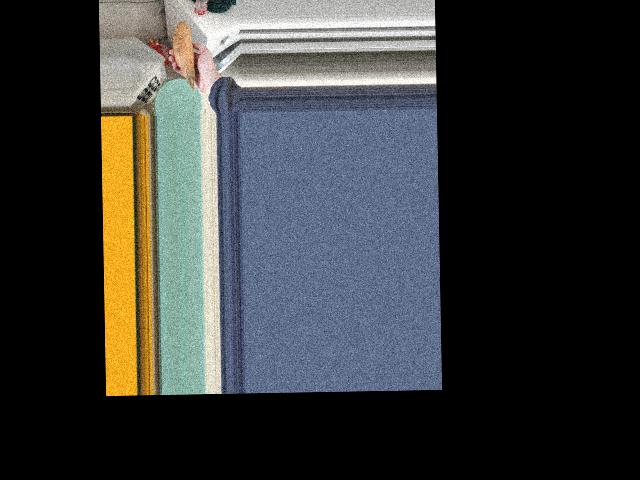sweet_potato: (170, 23, 191, 97)
